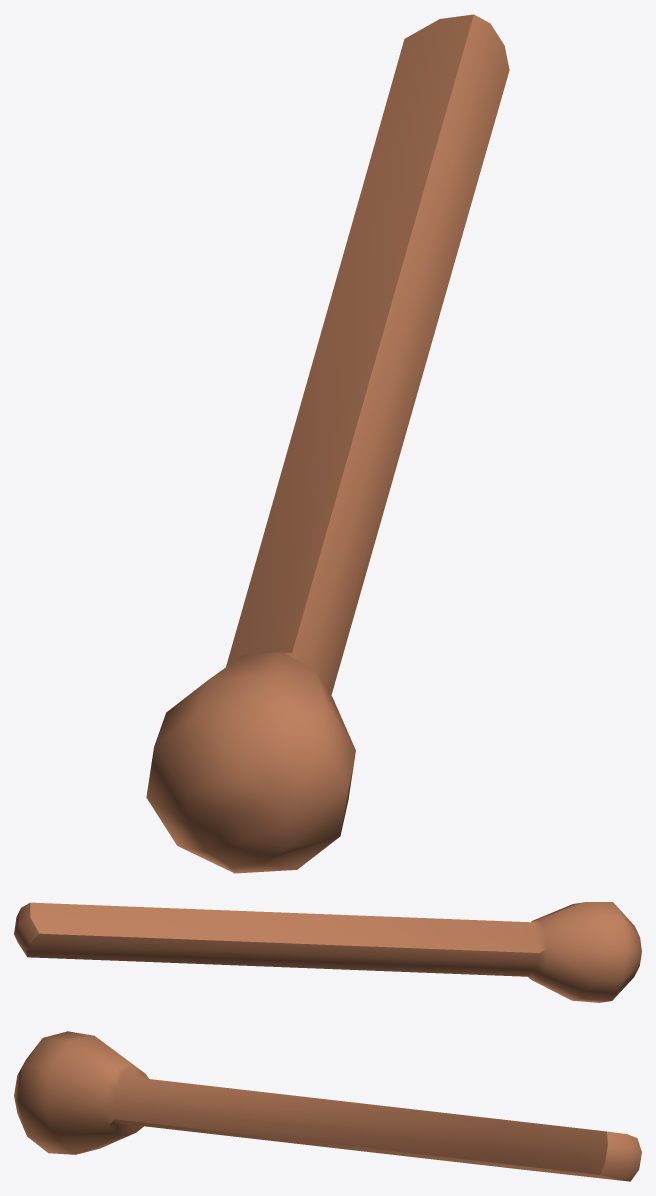
Rendered from Matchstick.FBX.
3 renders of one model, top to bottom at view 1: azimuth 30°, elevation 25°; view 2: azimuth 150°, elevation 25°; view 3: azimuth 270°, elevation 25°, orthographic. The views are drawn at different scales.
Visible parts, largest first — view 1: Box001; view 2: Box001; view 3: Box001.
Part boxes in pixels (x1,y1,x2,y2): Box001: (146, 14, 509, 873); Box001: (14, 902, 641, 1002); Box001: (14, 1031, 641, 1181).
Bounding box in the file's own units: 78.37 × 34.46 × 91.43.
